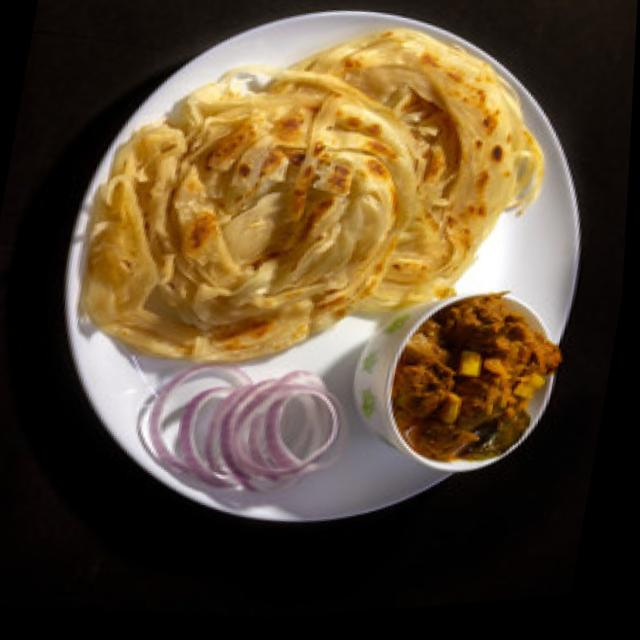FISH CURRY: (392, 286, 563, 461)
PAROTTA: (85, 29, 550, 368)
